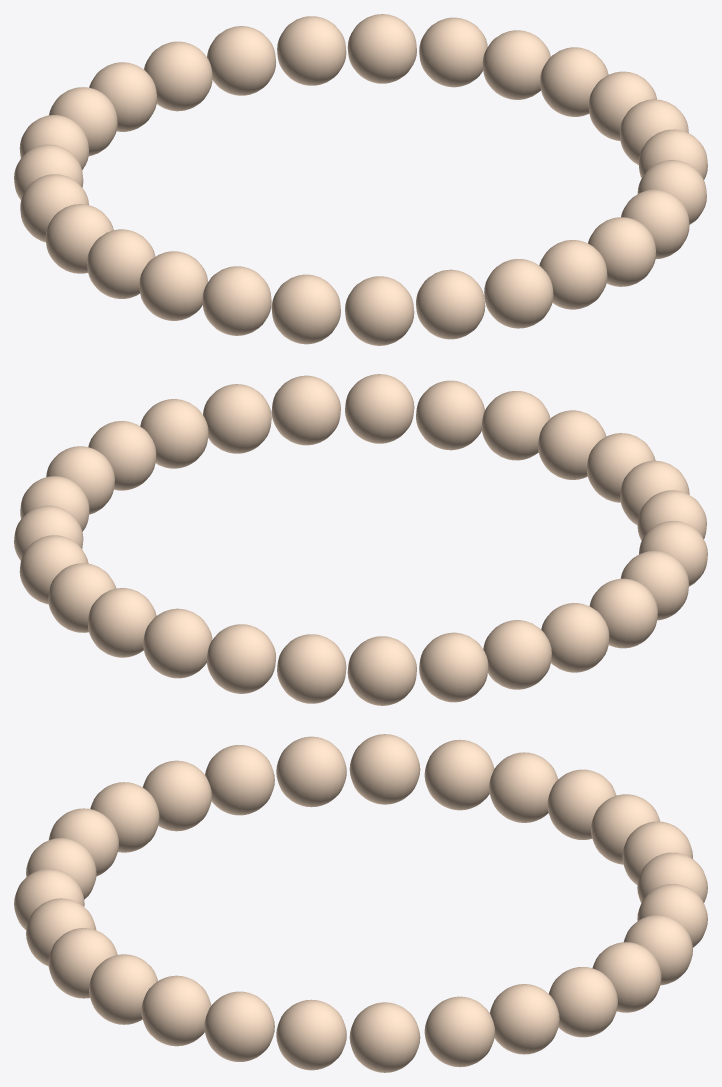
File: necklace.obj
The picture shows the model from 3 angles, top to bottom: view 1: azimuth 30°, elevation 25°; view 2: azimuth 150°, elevation 25°; view 3: azimuth 270°, elevation 25°; orthographic projection.
Visible parts, largest first — view 1: pSphere38 group8, group8 pSphere29, group8 pSphere37, pSphere8, pSphere24 group7, group7 pSphere23, group8 pSphere30, group7 pSphere25, group8 pSphere34, group7 pSphere22, group7 pSphere21, group8 pSphere28 (+15 smaller); view 2: group7 pSphere11, group8 pSphere33, group8 pSphere26, group8 pSphere28, group7 pSphere10, group8 pSphere31, group7 pSphere9, group7 pSphere25, group7 pSphere12, group8 pSphere32, group8 pSphere35, pSphere8 (+15 smaller); view 3: group8 pSphere39, group7 pSphere18, group7 pSphere17, group8 pSphere36, group7 pSphere19, group7 pSphere20, group8 pSphere35, group7 pSphere21, group7 pSphere12, group8 pSphere34, group8 pSphere32, group7 pSphere22 (+15 smaller).
Boxes of the visible parts, x1=… form: pSphere38 group8: x1=271, y1=274, x2=340, y2=344; group8 pSphere29: x1=416, y1=269, x2=485, y2=339; group8 pSphere37: x1=202, y1=266, x2=271, y2=335; pSphere8: x1=484, y1=259, x2=553, y2=328; pSphere24 group7: x1=277, y1=16, x2=346, y2=85; group7 pSphere23: x1=347, y1=14, x2=416, y2=83; group8 pSphere30: x1=345, y1=276, x2=414, y2=345; group7 pSphere25: x1=207, y1=26, x2=276, y2=95; group8 pSphere34: x1=139, y1=251, x2=207, y2=320; group7 pSphere22: x1=419, y1=17, x2=487, y2=87; group7 pSphere21: x1=482, y1=30, x2=550, y2=99; group8 pSphere28: x1=144, y1=41, x2=212, y2=111; group7 pSphere11: x1=271, y1=375, x2=340, y2=445; group8 pSphere33: x1=419, y1=632, x2=488, y2=702; group8 pSphere26: x1=277, y1=634, x2=346, y2=703; group8 pSphere28: x1=206, y1=624, x2=276, y2=693; group7 pSphere10: x1=345, y1=374, x2=414, y2=443; group8 pSphere31: x1=347, y1=636, x2=416, y2=705; group7 pSphere9: x1=416, y1=380, x2=484, y2=450; group7 pSphere25: x1=143, y1=608, x2=212, y2=678; group7 pSphere12: x1=203, y1=384, x2=271, y2=453; group8 pSphere32: x1=483, y1=620, x2=551, y2=689; group8 pSphere35: x1=541, y1=603, x2=609, y2=672; pSphere8: x1=481, y1=391, x2=550, y2=460; group8 pSphere39: x1=276, y1=736, x2=346, y2=807; group7 pSphere18: x1=276, y1=999, x2=346, y2=1070; group7 pSphere17: x1=204, y1=991, x2=274, y2=1061; group8 pSphere36: x1=349, y1=734, x2=420, y2=804; group7 pSphere19: x1=349, y1=1002, x2=420, y2=1072; group7 pSphere20: x1=424, y1=996, x2=495, y2=1067; group8 pSphere35: x1=424, y1=739, x2=494, y2=810; group7 pSphere21: x1=490, y1=984, x2=559, y2=1054; group7 pSphere12: x1=141, y1=975, x2=211, y2=1046; group8 pSphere34: x1=205, y1=745, x2=274, y2=815; group8 pSphere32: x1=489, y1=752, x2=558, y2=822; group7 pSphere22: x1=549, y1=967, x2=617, y2=1037.
Size of the model in its own units: 2.46 by 0.2461 by 2.42.
